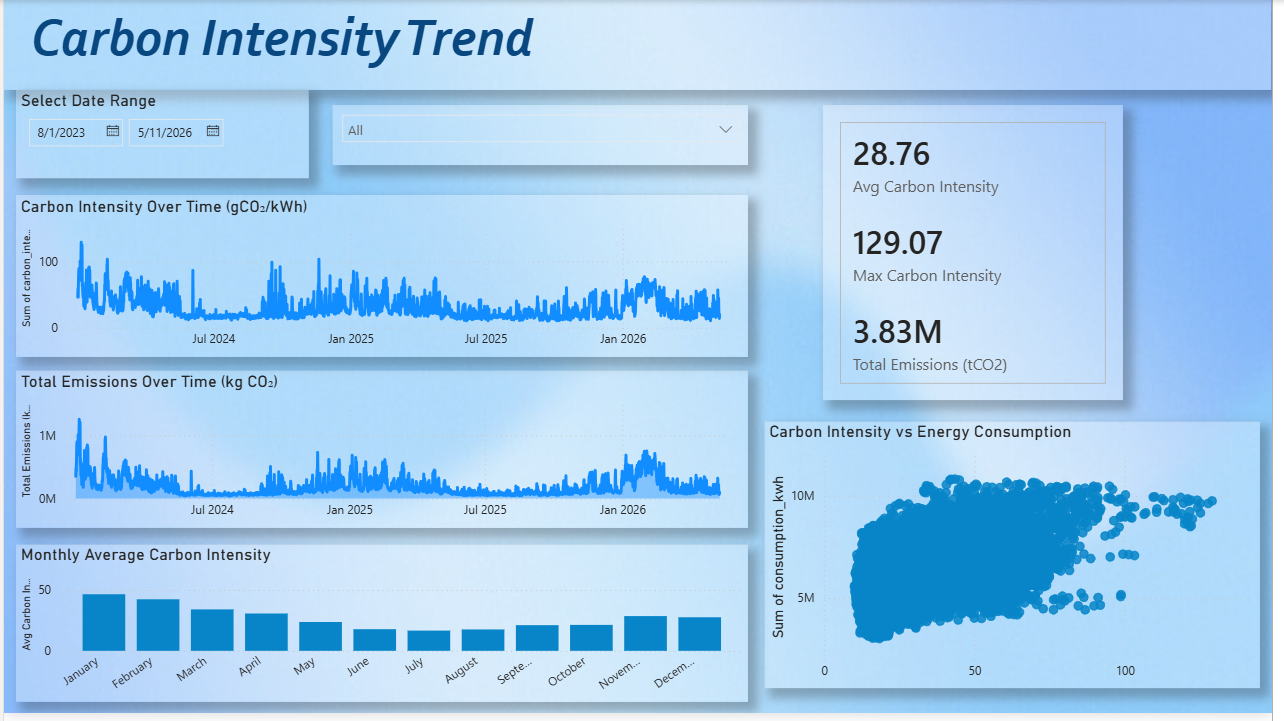

What the dashboard file says about the page in this screenshot:
{"tool":"powerbi","page":{"name":"Carbon Intensity Trend","canvas":[1280,720],"ordinal":3},"visuals":[{"type":"shape","box":[0,0,208.3,718.3],"z":0,"group":"g1"},{"type":"textbox","box":[221.5,0,1058.5,90.8],"z":0},{"type":"shape","box":[0,1.5,208.8,719.1],"z":0,"group":"g2"},{"type":"pageNavigator","box":[0,191.7,208.3,411.7],"z":1000,"group":"g1"},{"type":"pageNavigator","box":[0,193.4,208.8,412.1],"z":1000,"group":"g2"},{"type":"lineChart","title":"Carbon Intensity Over Time (gCO₂/kWh)","fields":{"Category":["fact_carbon_intensity.timestamp"],"Y":["Sum(fact_carbon_intensity.carbon_intensity)"]},"box":[221.5,241.5,595.4,200],"z":1000},{"type":"areaChart","title":"Total Emissions Over Time (kg CO₂)","fields":{"Y":["fact_carbon_intensity.Total Emissions (kgCO2)"],"Category":["Energy_Consumption.timestamp"]},"box":[221.5,453.8,595.4,223.1],"z":2000},{"type":"cardVisual","title":"📉Average carbon intensity","fields":{"Data":["fact_carbon_intensity.Avg Carbon Intensity"]},"box":[496.9,107.7,253.8,107.7],"z":3000},{"type":"scatterChart","title":"Carbon Intensity vs Energy Consumption","fields":{"X":["Sum(fact_carbon_intensity.carbon_intensity)"],"Y":["Sum(Energy_Consumption.consumption_kwh)"],"Category":["Energy_Consumption.timestamp"]},"box":[833.8,453.8,435.4,223.1],"z":4000},{"type":"clusteredColumnChart","title":"Monthly Average Carbon Intensity","fields":{"Category":["DateTable.Month"],"Y":["fact_carbon_intensity.Avg Carbon Intensity"]},"box":[832.3,241.5,435.4,200],"z":5000},{"type":"slicer","title":"Select Year","fields":{"Values":["Energy_Consumption.timestamp.Variation.Date Hierarchy.Year"]},"box":[1052.3,107.7,216.9,107.7],"z":6000},{"type":"cardVisual","title":"⚠️Maximum carbon intensity","fields":{"Data":["fact_carbon_intensity.Max Carbon Intensity"]},"box":[776.9,107.7,244.6,107.7],"z":7000},{"type":"cardVisual","title":"📊Total Emission","fields":{"Data":["fact_carbon_intensity.Total Emissions (tCO2)"]},"box":[221.5,107.7,238.5,107.7],"z":8000},{"type":"textbox","box":[221.5,676.9,1058.5,43.1],"z":9000},{"type":"group","id":"g1","title":"Group 1","box":[0,0,207.7,718.5],"z":10000},{"type":"group","id":"g2","title":"Group 1","box":[0,1.5,208.8,719.1],"z":11000},{"type":"textbox","box":[0,633.8,219.1,85.3],"z":12000}]}

Visuals, with their boxes in screenshot pixels (x1, y1, x2, y2), scaled from the page's 1280x720 canvas onto the 1284x721 screenshot:
shape: detection(0, 0, 209, 719)
textbox: detection(222, 0, 1283, 91)
shape: detection(0, 2, 209, 720)
pageNavigator: detection(0, 192, 209, 604)
pageNavigator: detection(0, 194, 209, 606)
"Carbon Intensity Over Time (gCO₂/kWh)" lineChart: detection(222, 242, 819, 442)
"Total Emissions Over Time (kg CO₂)" areaChart: detection(222, 454, 819, 678)
"📉Average carbon intensity" cardVisual: detection(498, 108, 753, 216)
"Carbon Intensity vs Energy Consumption" scatterChart: detection(836, 454, 1273, 678)
"Monthly Average Carbon Intensity" clusteredColumnChart: detection(835, 242, 1272, 442)
"Select Year" slicer: detection(1056, 108, 1273, 216)
"⚠️Maximum carbon intensity" cardVisual: detection(779, 108, 1025, 216)
"📊Total Emission" cardVisual: detection(222, 108, 461, 216)
textbox: detection(222, 678, 1283, 720)
"Group 1" group: detection(0, 0, 208, 719)
"Group 1" group: detection(0, 2, 209, 720)
textbox: detection(0, 635, 220, 720)
